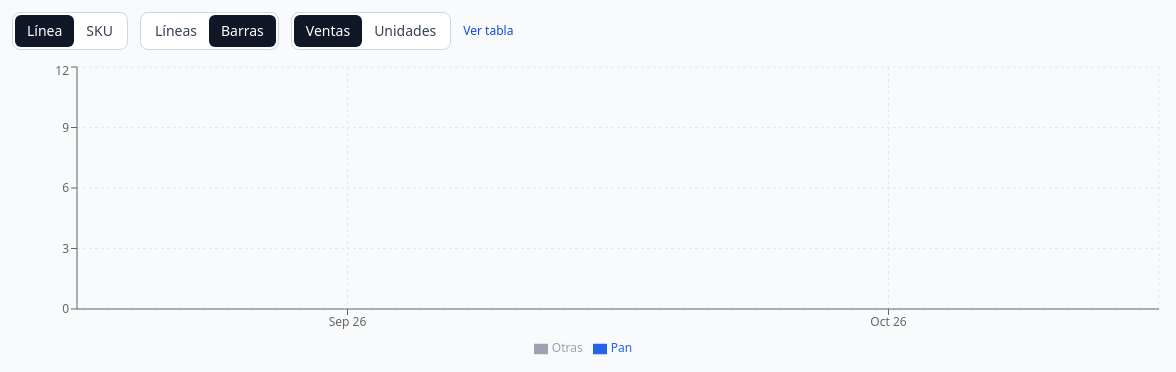
Test: EvolutionPanel › the table shows sales in the active currency; an unknown USD is a dash, never 0
This screenshot has width=1176, height=372.
Click the button "Ver tabla": x=488, y=31 left=463, top=23, right=513, bottom=39
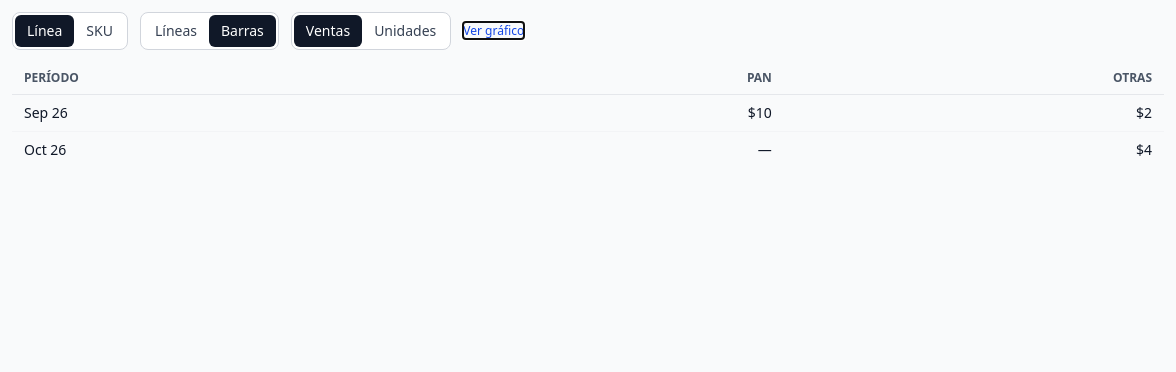
Result: the text "$10" is shown at left=488, top=94, right=784, bottom=132
Result: the text "—" is shown once at left=488, top=132, right=784, bottom=168
